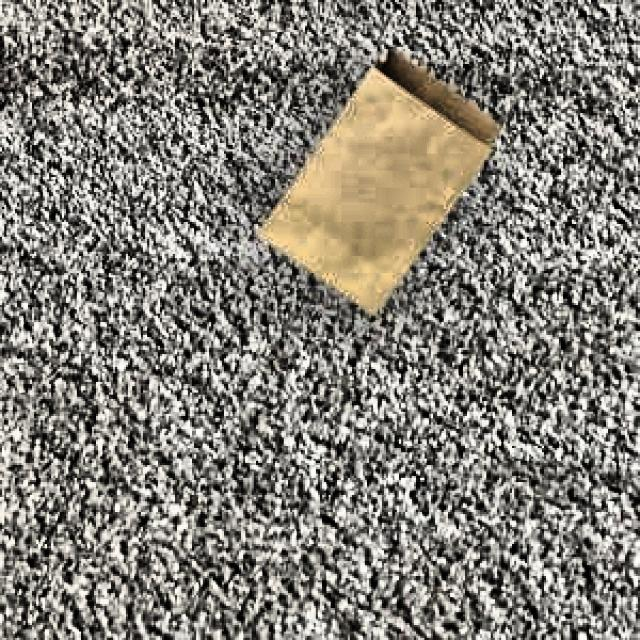Paper-bag: (244, 51, 503, 338)
